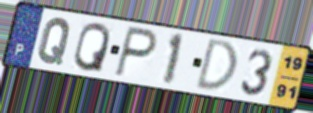1: (160, 32, 185, 86)
3: (239, 48, 275, 98)
D: (193, 37, 239, 92)
P: (112, 24, 159, 80)
Q: (71, 21, 112, 74), (36, 16, 74, 67)
